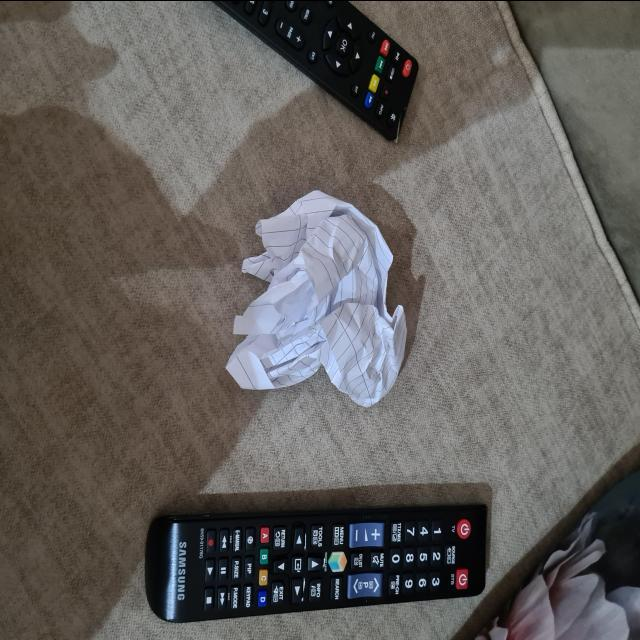kertas: (226, 195, 407, 408)
